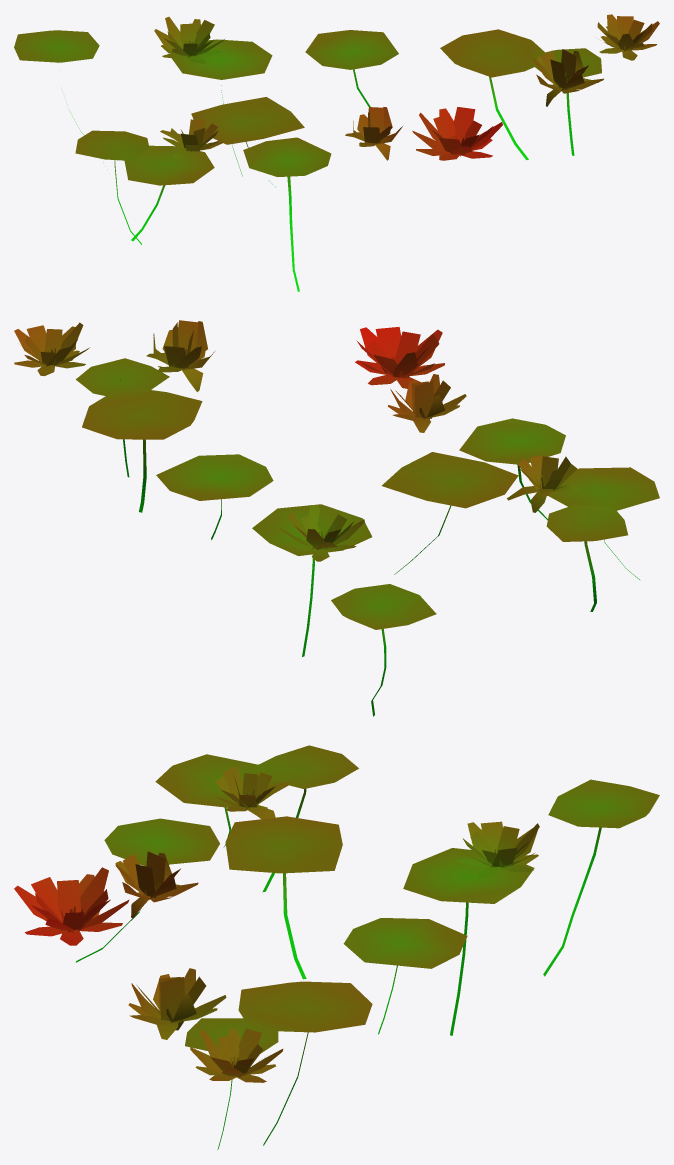
Rendered from Var5_LOD2.fbx.
The picture shows the model from 3 angles, top to bottom: view 1: azimuth 30°, elevation 25°; view 2: azimuth 150°, elevation 25°; view 3: azimuth 270°, elevation 25°; orthographic projection. The views are drawn at different scales.
Visible parts, largest first — view 1: _e298_Var5_LOD2; view 2: _e298_Var5_LOD2; view 3: _e298_Var5_LOD2.
Boxes of the visible parts, <box> form: _e298_Var5_LOD2: <box>14,14,659,291</box>; _e298_Var5_LOD2: <box>14,320,659,716</box>; _e298_Var5_LOD2: <box>14,745,659,1149</box>.
Size of the model in its own units: 170 by 44.53 by 133.
